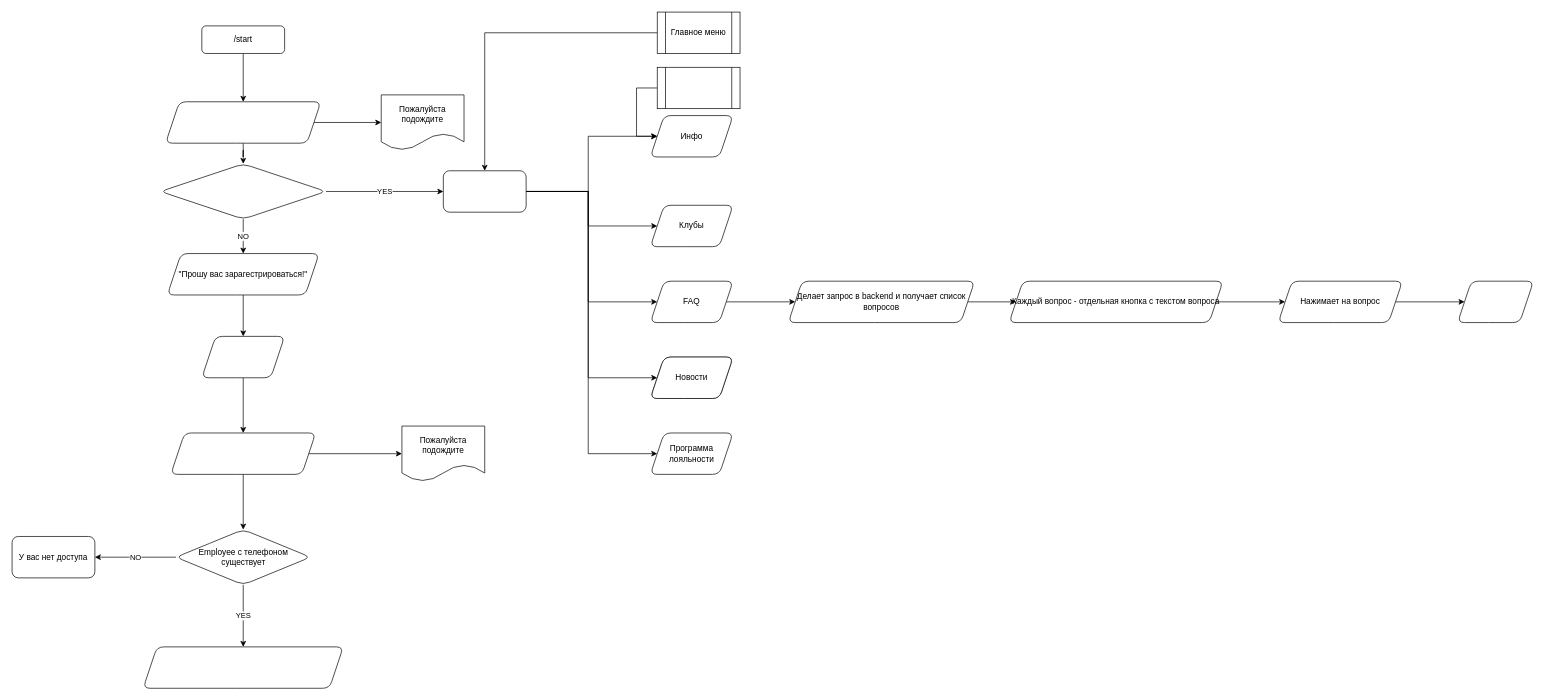
Some shapes in this 1546 by 700 pixel diagram are drawn without their labels. Here are the shapes that lost their labels. From the top down, the box of each, then its label:
(657, 67, 740, 109): Назад
(165, 101, 321, 143): Запрос по chat_id в backend
(160, 163, 326, 219): Employee существует
(443, 170, 526, 212): Выходит меню
(1457, 280, 1534, 323): ответ
(201, 336, 285, 378): request_contact
(170, 432, 316, 474): Запрос по номеру телефона в backend
(142, 646, 343, 688): Изменить chat_id employee по id
